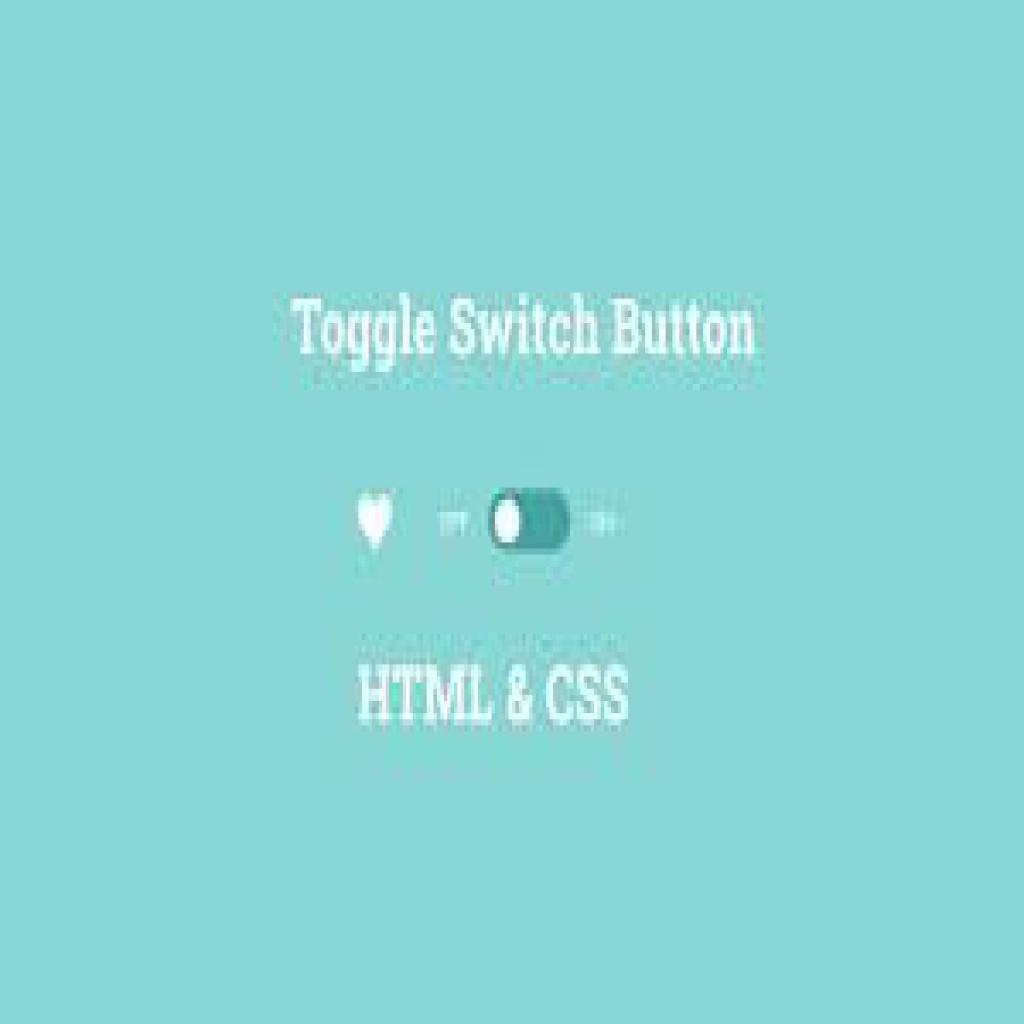switch: (479, 455, 577, 580)
